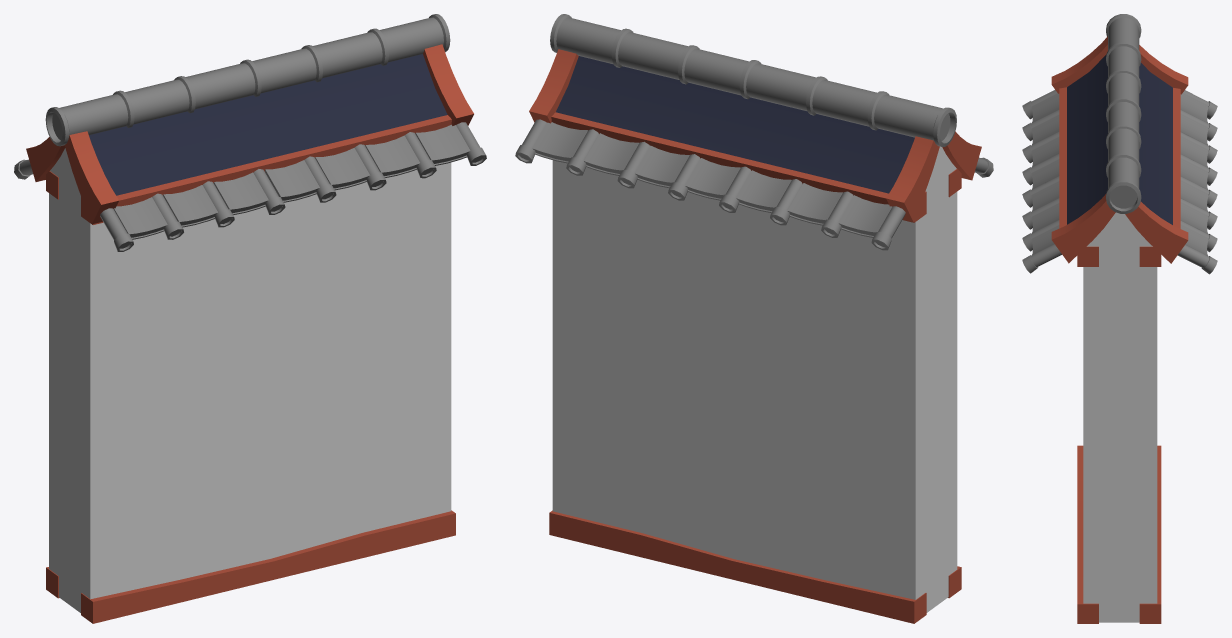
The model's file is SM_wall_modular_02.fbx.
3 renders of one model, left to right at view 1: azimuth 30°, elevation 25°; view 2: azimuth 150°, elevation 25°; view 3: azimuth 270°, elevation 25°, orthographic. The views are drawn at different scales.
Parts seen in each view (by area): view 1: Cylinder104; view 2: Cylinder104; view 3: Cylinder104.
Part boxes in pixels (x1,y1,x2,y2): Cylinder104: [14, 14, 486, 623]; Cylinder104: [515, 14, 993, 623]; Cylinder104: [1022, 14, 1217, 623].
Size of the model in its own units: 149 by 184 by 72.96.
